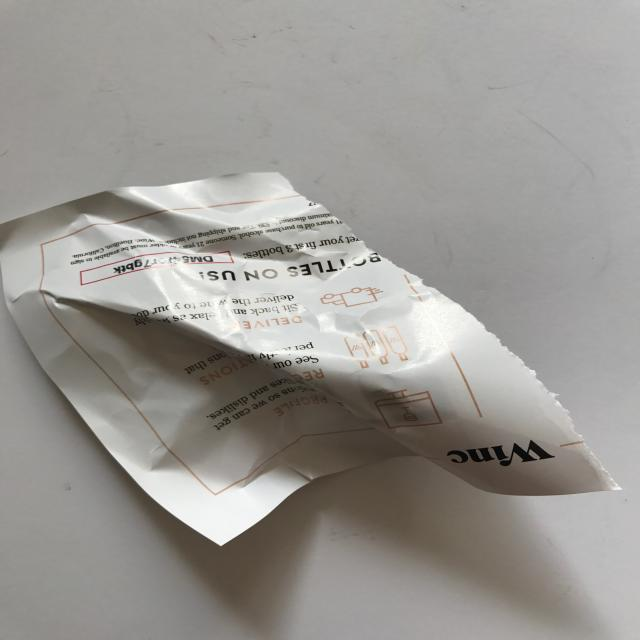paper: (1, 170, 622, 546)
